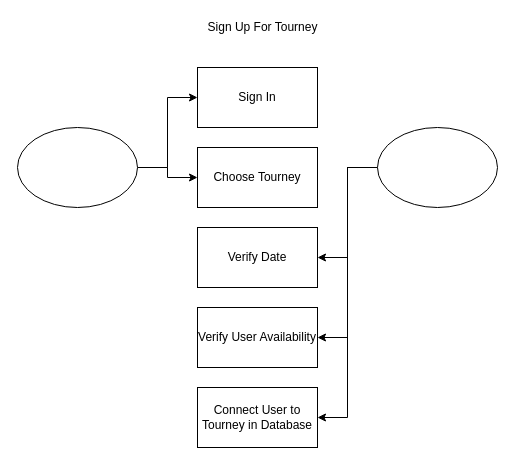
The diagram is 515 pixels wide and 465 high, and some of its shapes have lost their labels. The shapes that lost their labels are listed below. From the top down, each one's centre as x and y in pixels, then its label:
At point (77, 167): "User".
At point (437, 167): "Backend".
